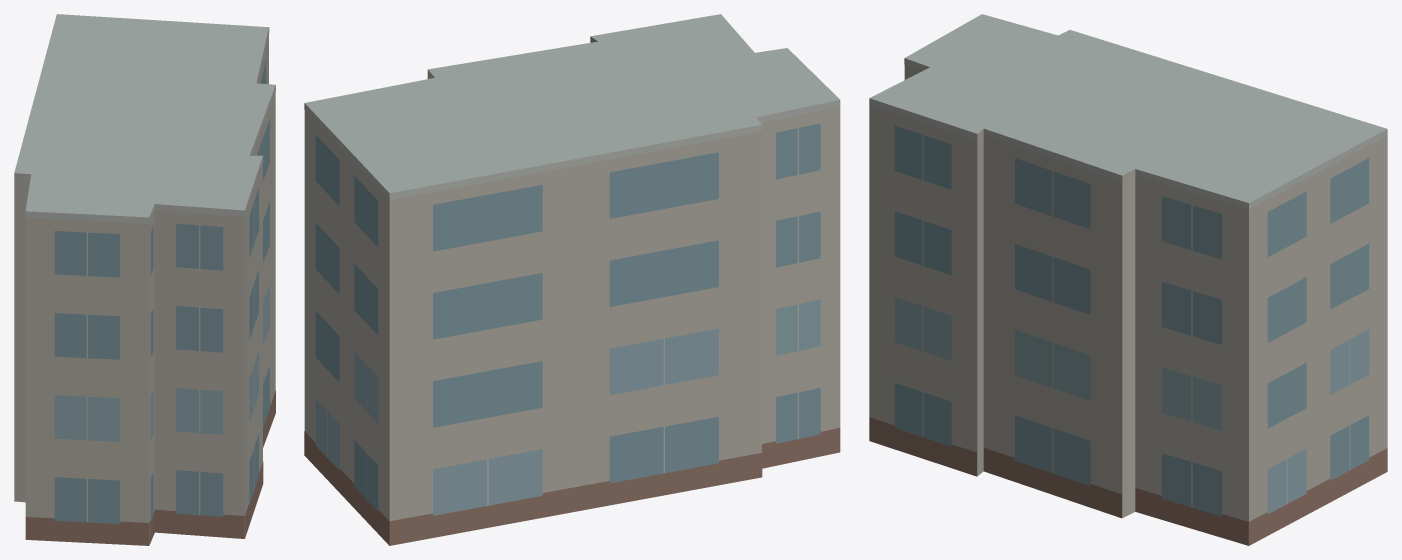
Rendered from survey-upis-32653146.glb.
3 renders of one model, left to right at view 1: azimuth 30°, elevation 25°; view 2: azimuth 150°, elevation 25°; view 3: azimuth 270°, elevation 25°, orthographic. The views are drawn at different scales.
Parts seen in each view (by area): view 1: survey-upis-32653146.tmp; view 2: survey-upis-32653146.tmp; view 3: survey-upis-32653146.tmp.
Part boxes in pixels (bbox=[...]): survey-upis-32653146.tmp: bbox=[14, 14, 275, 545]; survey-upis-32653146.tmp: bbox=[304, 14, 840, 545]; survey-upis-32653146.tmp: bbox=[869, 14, 1387, 545].
Bounding box in the file's own units: 15.03 × 12.7 × 17.41.
